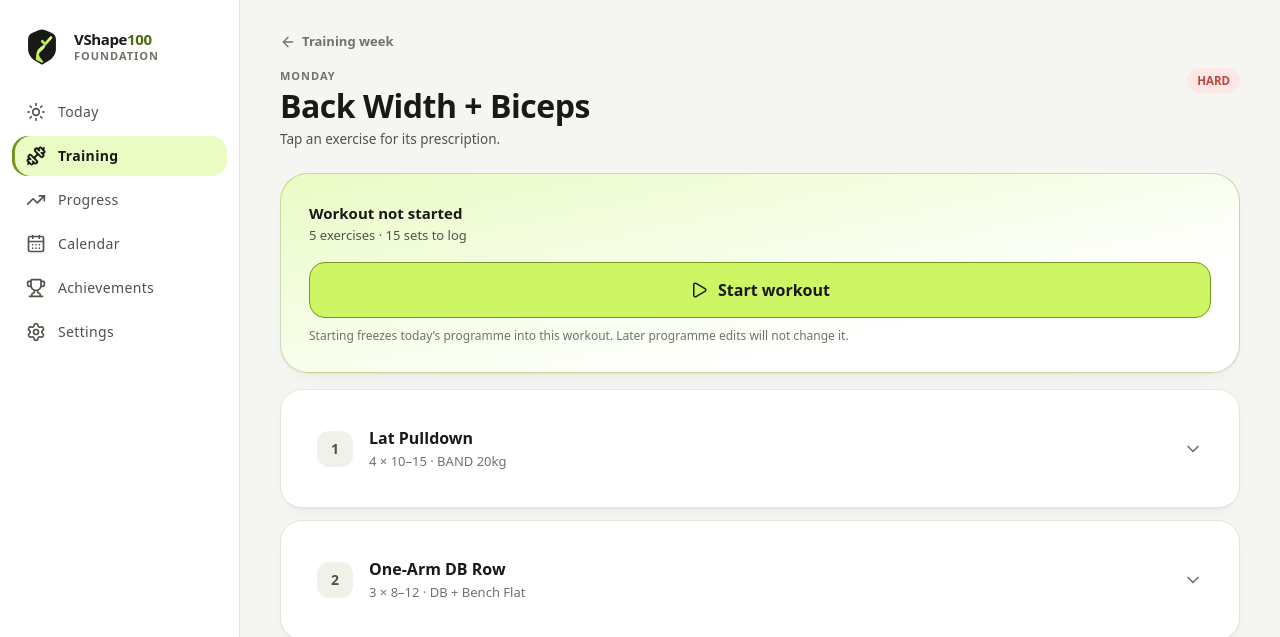
Scenario: cancelling an accidental Start › offers Cancel on a freshly started, untouched workout
The width and height of the screenshot is (1280, 637).
Expected: the heading "Back Width + Biceps" is shown, [280, 88, 590, 125]
Click the button "Start workout": (760, 290) [309, 262, 1211, 318]
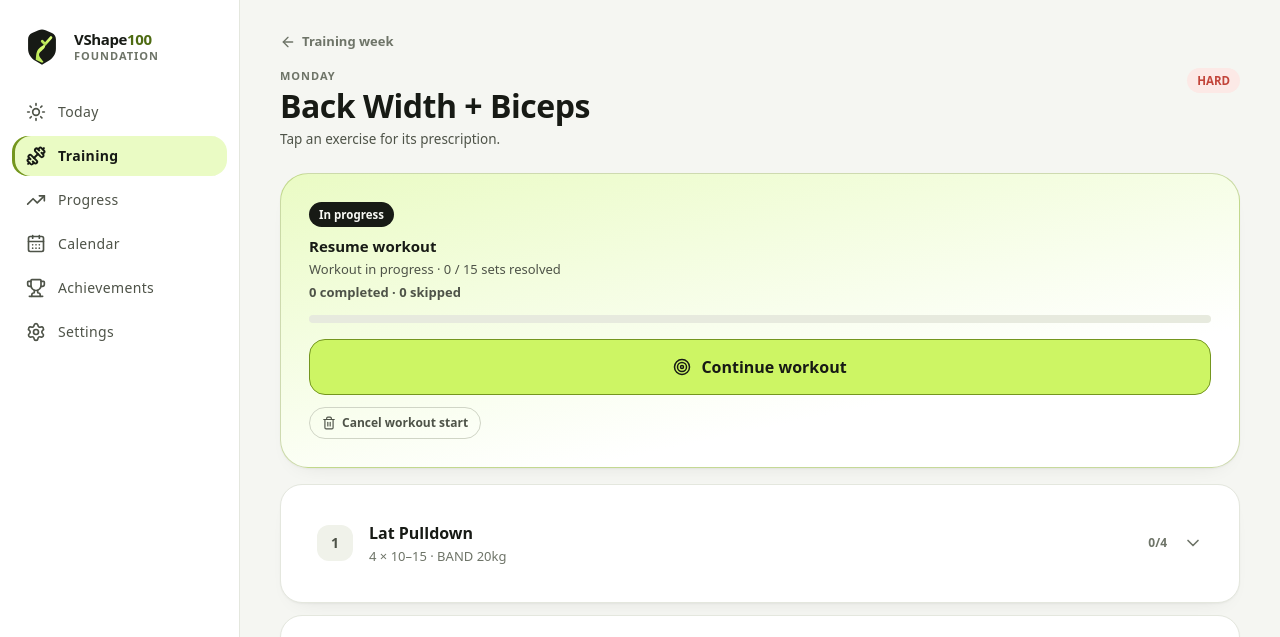
Now the text "Resume workout" is shown, box [309, 236, 436, 256]
Now the button "Cancel workout start" is shown, box [309, 407, 481, 439]
